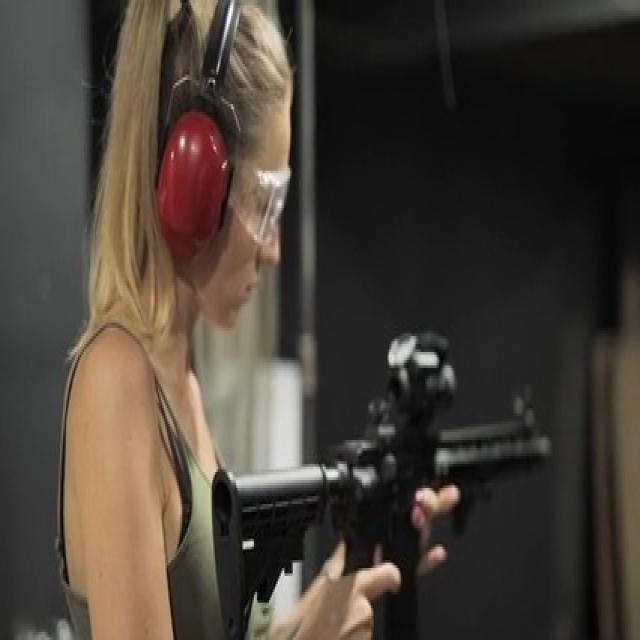Gun_Holder: (197, 323, 550, 640)
Person: (54, 0, 396, 640)
